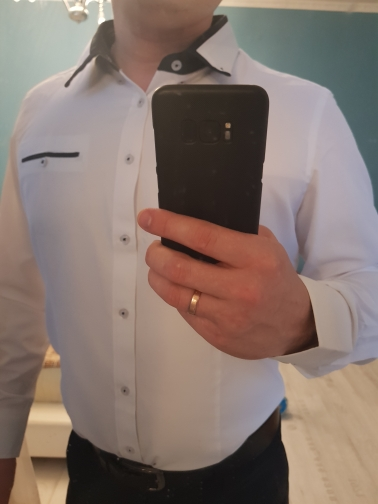shirts: (9, 15, 378, 472)
